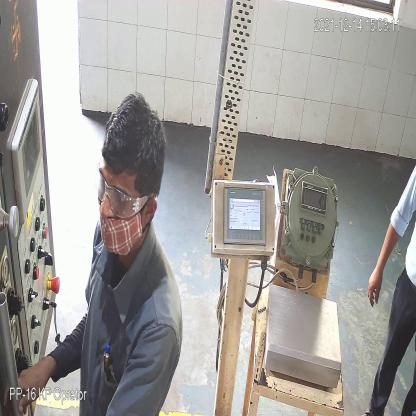goggles: (94, 171, 149, 214)
no_glove: (368, 210, 399, 307)
